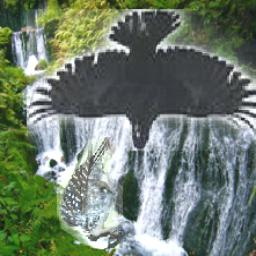Crow: (27, 10, 256, 152)
Woodpecker: (58, 138, 124, 250)
